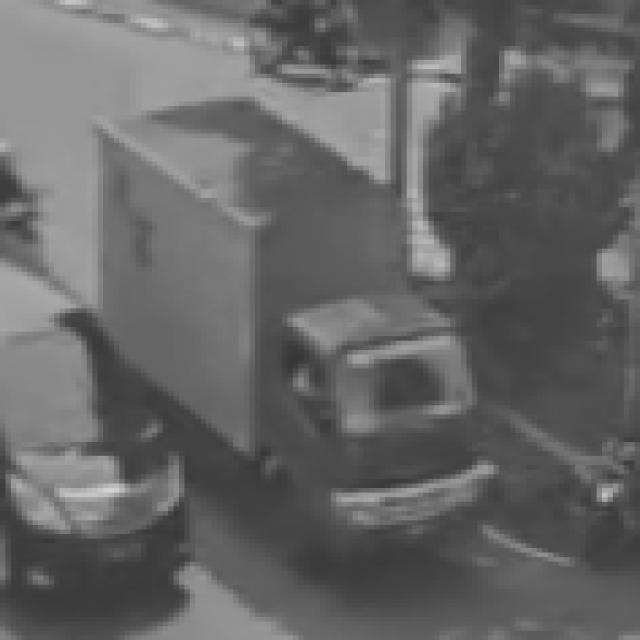Truck: (210, 96, 528, 578)
